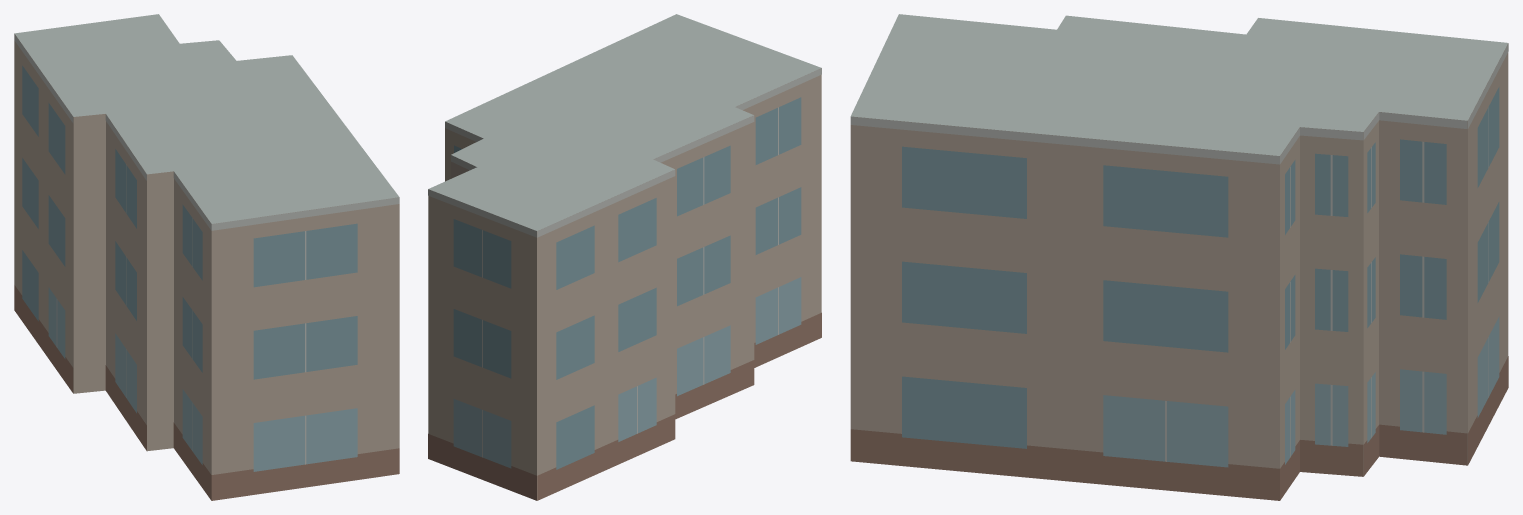
File: survey-upis-32470607.glb
3 renders of one model, left to right at view 1: azimuth 30°, elevation 25°; view 2: azimuth 150°, elevation 25°; view 3: azimuth 270°, elevation 25°, orthographic. The views are drawn at different scales.
Visible parts, largest first — view 1: survey-upis-32470607.tmp; view 2: survey-upis-32470607.tmp; view 3: survey-upis-32470607.tmp.
Boxes of the visible parts, x1=… form: survey-upis-32470607.tmp: x1=14, y1=14, x2=399, y2=500; survey-upis-32470607.tmp: x1=428, y1=14, x2=821, y2=500; survey-upis-32470607.tmp: x1=850, y1=14, x2=1508, y2=500.
Size of the model in its own units: 8.8 by 9.95 by 17.22.
